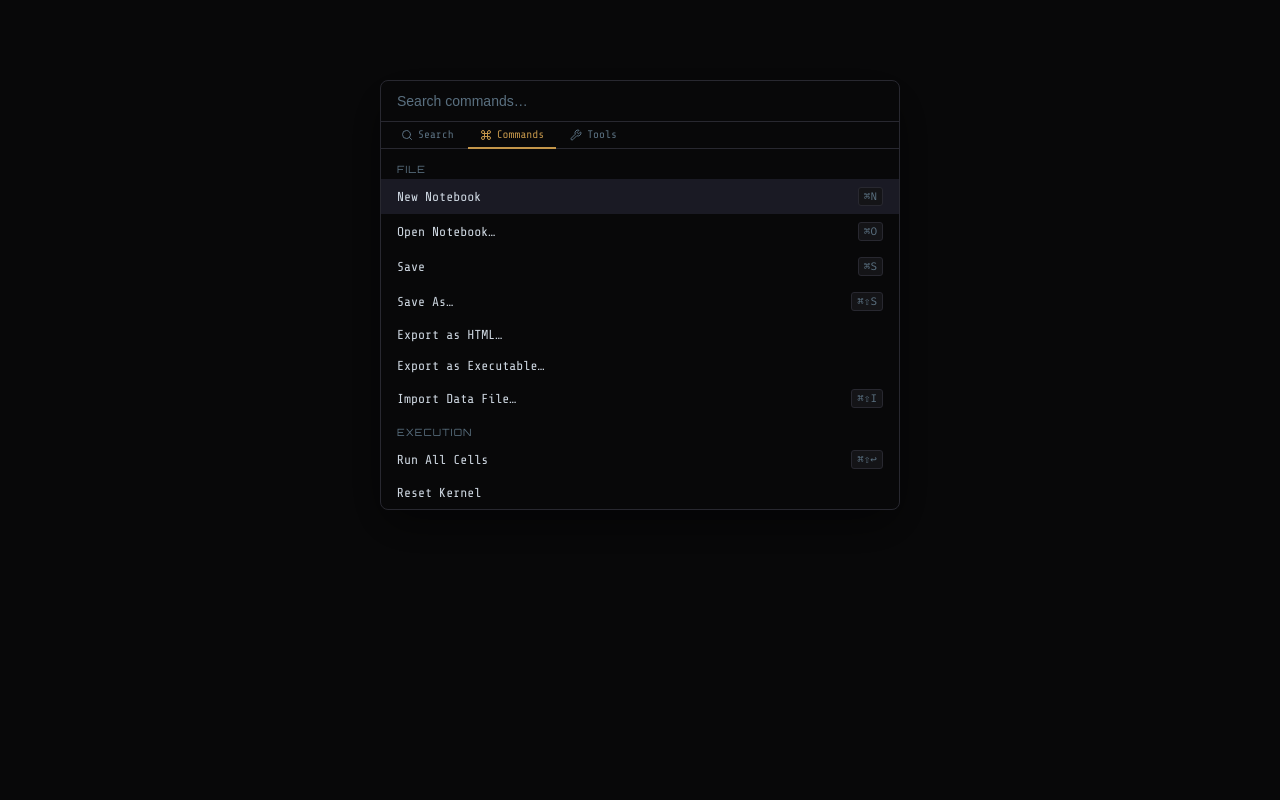
Test: CommandPalette — required commands present › Tools tab shows panel items with icons
Click the Tools tab
Click the button with class "cmd-palette-tab" showing "Tools" at (594, 136), box [558, 122, 629, 149]
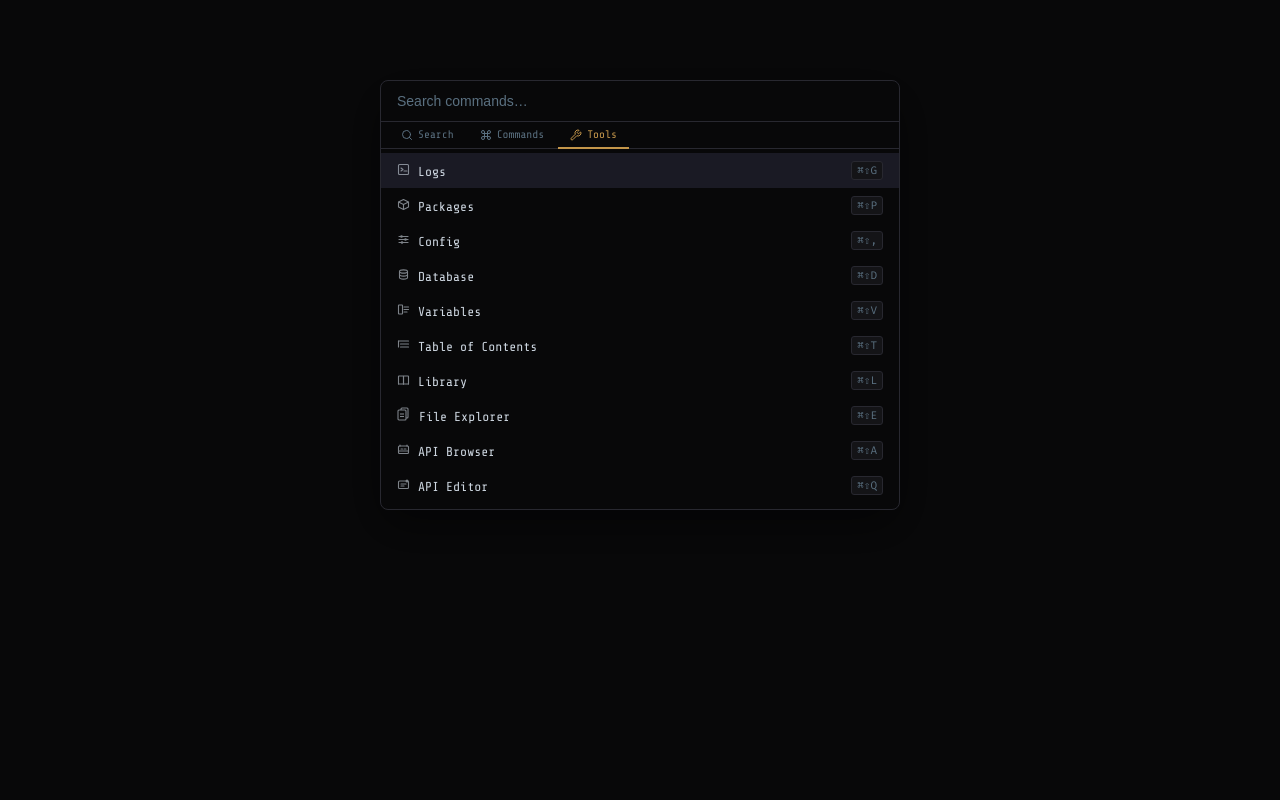
Check: the element with class "cmd-palette-item" showing "Logs ⌘⇧G" is shown, box [381, 153, 899, 188]
Check: the icon with class "cmd-palette-icon" next to "Logs" is shown, box [397, 162, 410, 176]
